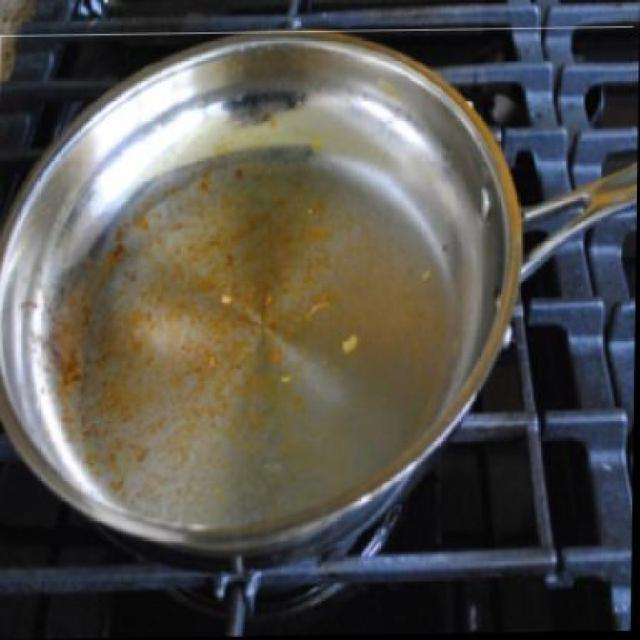pot: (0, 28, 635, 581)
